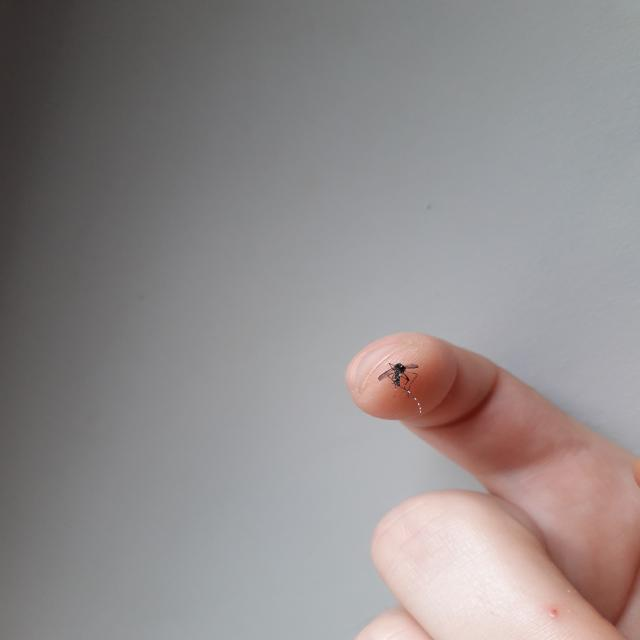albopictus: (361, 344, 433, 407)
